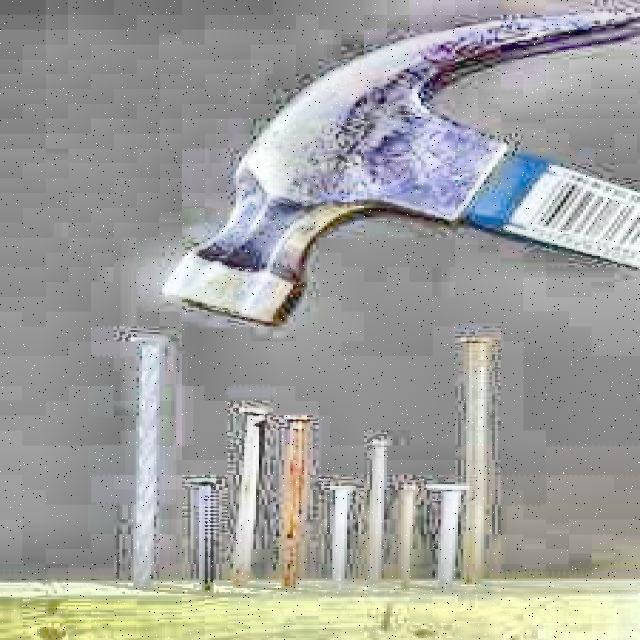hammer: (157, 4, 640, 332)
